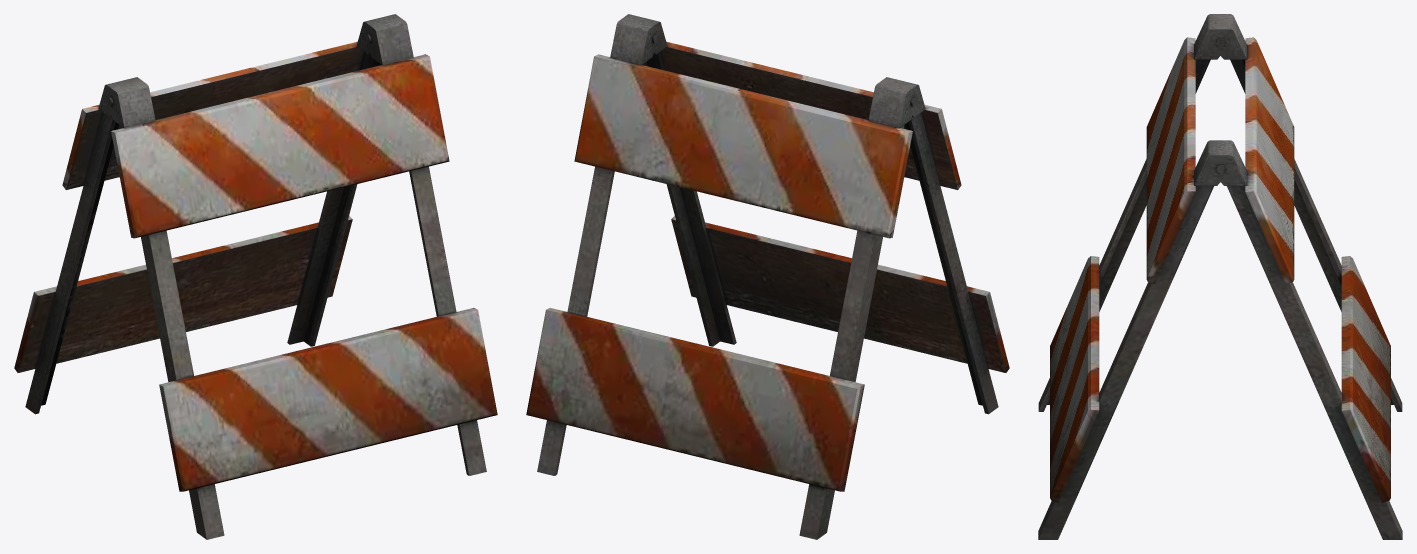
Rendered from barricade001a.glb.
3 renders of one model, left to right at view 1: azimuth 30°, elevation 25°; view 2: azimuth 150°, elevation 25°; view 3: azimuth 270°, elevation 25°, orthographic.
Parts seen in each view (by area): view 1: 0_barricade_composite01; view 2: 0_barricade_composite01; view 3: 0_barricade_composite01.
Boxes of the visible parts, x1,y1,x2,y2 form: 0_barricade_composite01: [14, 14, 497, 539]; 0_barricade_composite01: [526, 14, 1009, 539]; 0_barricade_composite01: [1038, 14, 1402, 539].
Size of the model in its own units: 0.9141 by 1.07 by 0.9155.
Materials: 1 (1 with a texture image).
